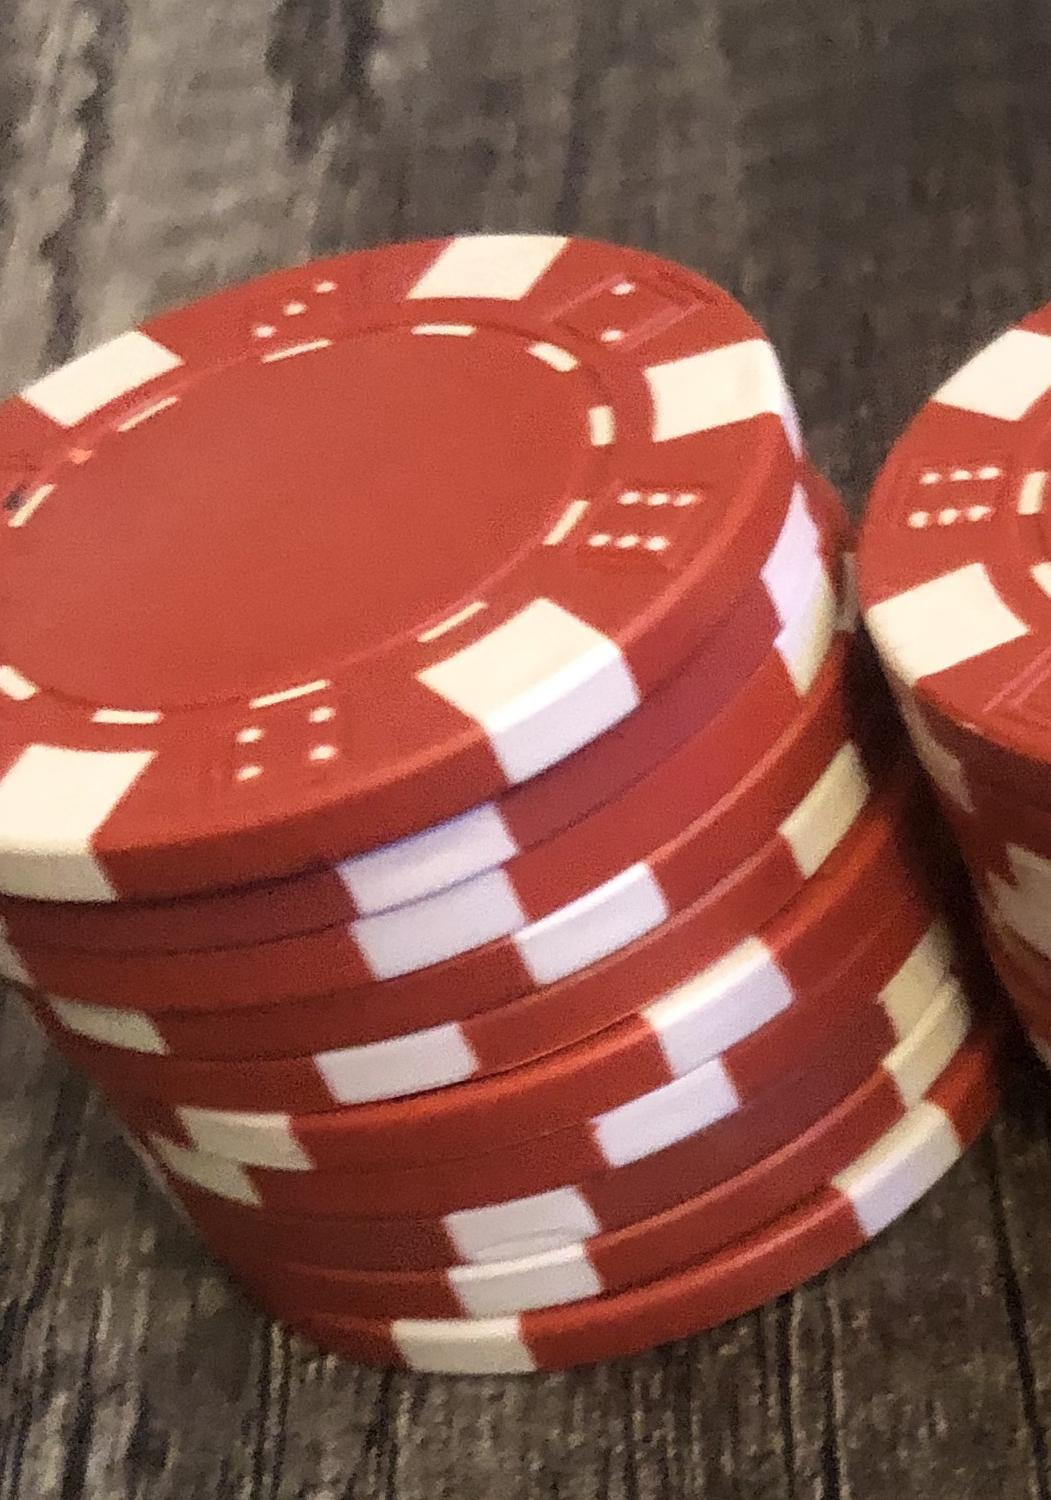Chip: (1, 1, 1051, 1500)
